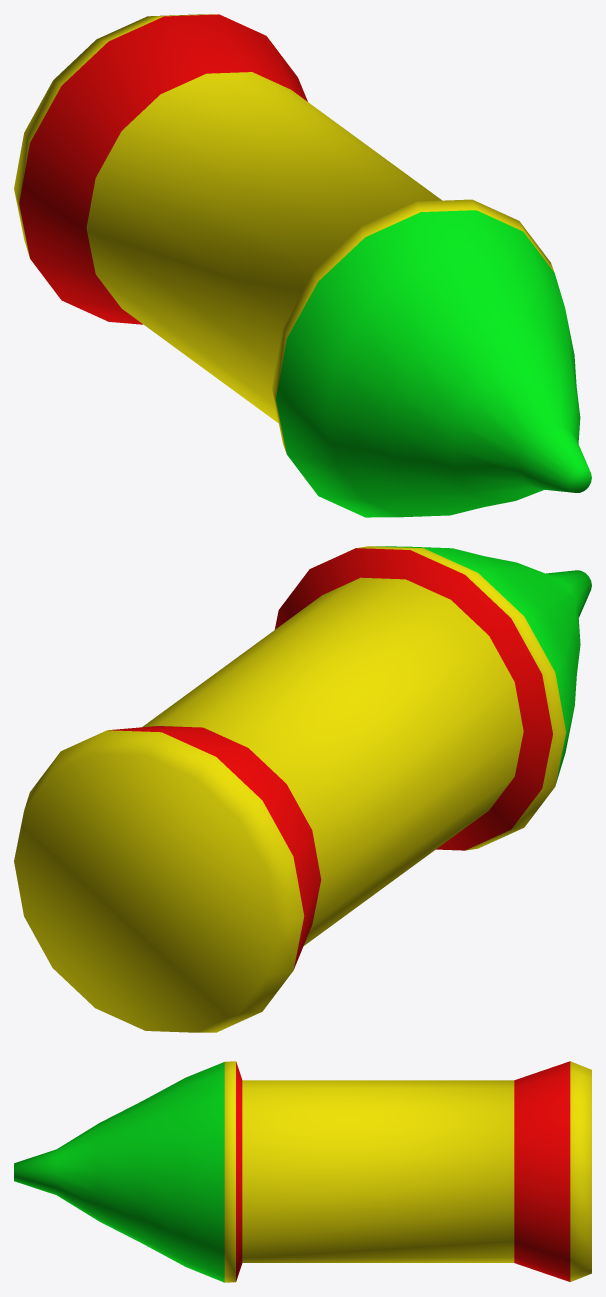
File: subcaliber_projectile.fbx
3 renders of one model, top to bottom at view 1: azimuth 30°, elevation 25°; view 2: azimuth 150°, elevation 25°; view 3: azimuth 270°, elevation 25°, orthographic. The views are drawn at different scales.
Visible parts, largest first — view 1: Cylinder; view 2: Cylinder; view 3: Cylinder.
Part boxes in pixels (x1,y1,x2,y2): Cylinder: (14,14,591,517); Cylinder: (14,546,591,1032); Cylinder: (14,1061,591,1282).
Size of the model in its own units: 287 by 286 by 739.
